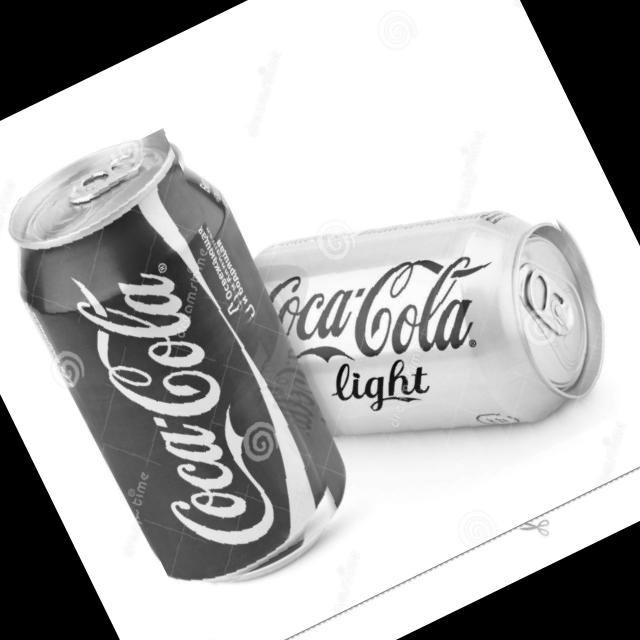Cans: (0, 128, 357, 611), (257, 141, 640, 528)
